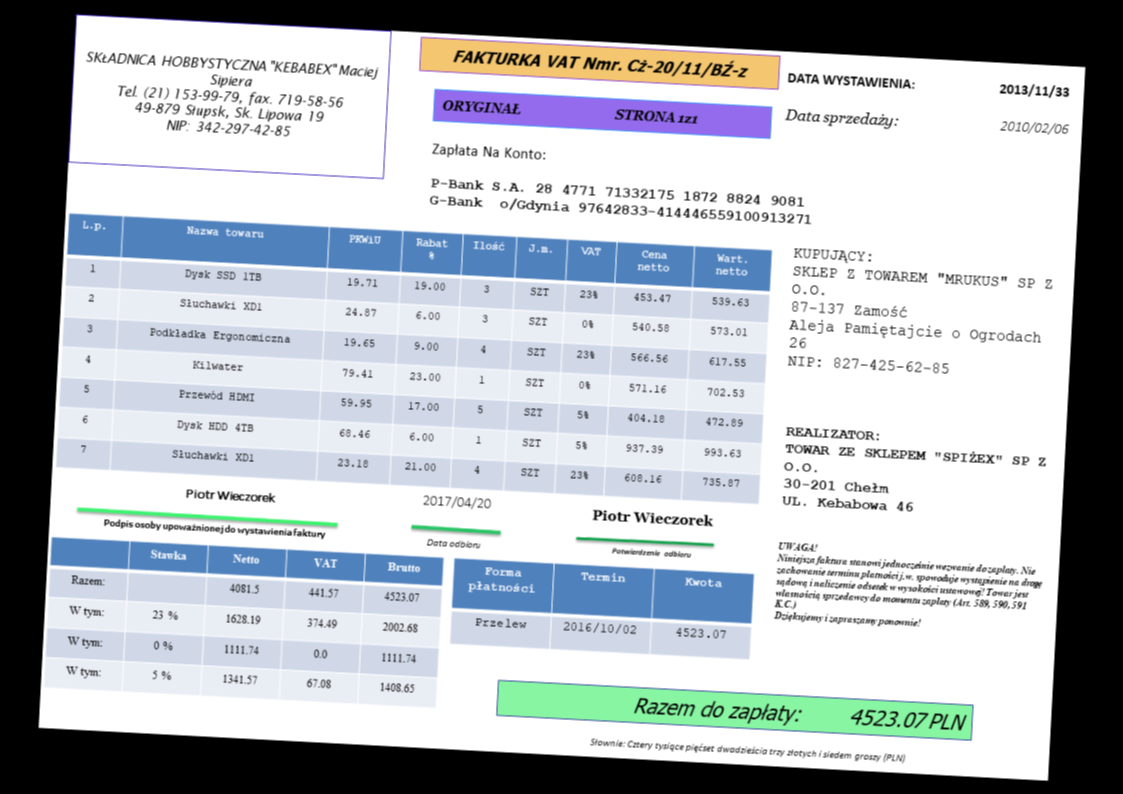Table: (53, 210, 774, 506), (41, 534, 445, 709), (447, 554, 756, 660)
TextBox: (783, 242, 1059, 385), (78, 46, 382, 146), (769, 536, 1049, 639), (779, 422, 1051, 523), (426, 173, 817, 230), (629, 692, 969, 734), (449, 42, 754, 83), (585, 734, 908, 765), (439, 93, 700, 127), (100, 514, 327, 542), (782, 102, 903, 132), (785, 68, 917, 92), (429, 139, 550, 164), (589, 506, 715, 528), (180, 484, 280, 506), (995, 80, 1074, 101), (419, 491, 492, 513), (995, 117, 1072, 137), (609, 544, 692, 561), (422, 534, 482, 551)
